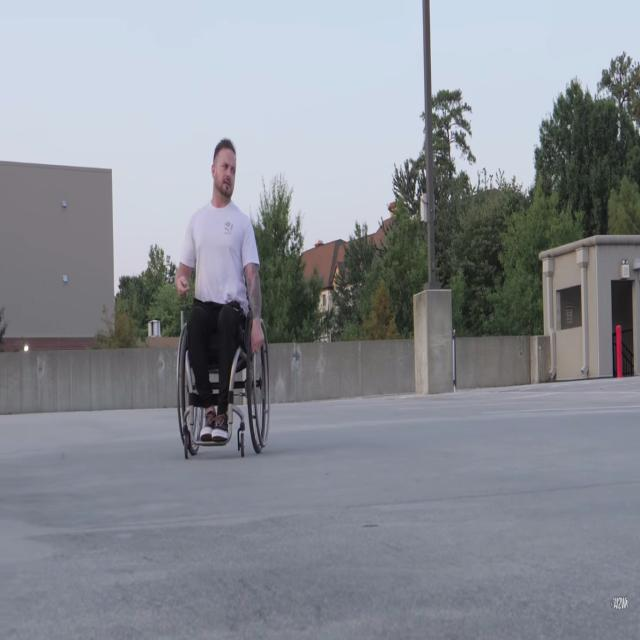wheelchairs: (174, 310, 275, 462)
